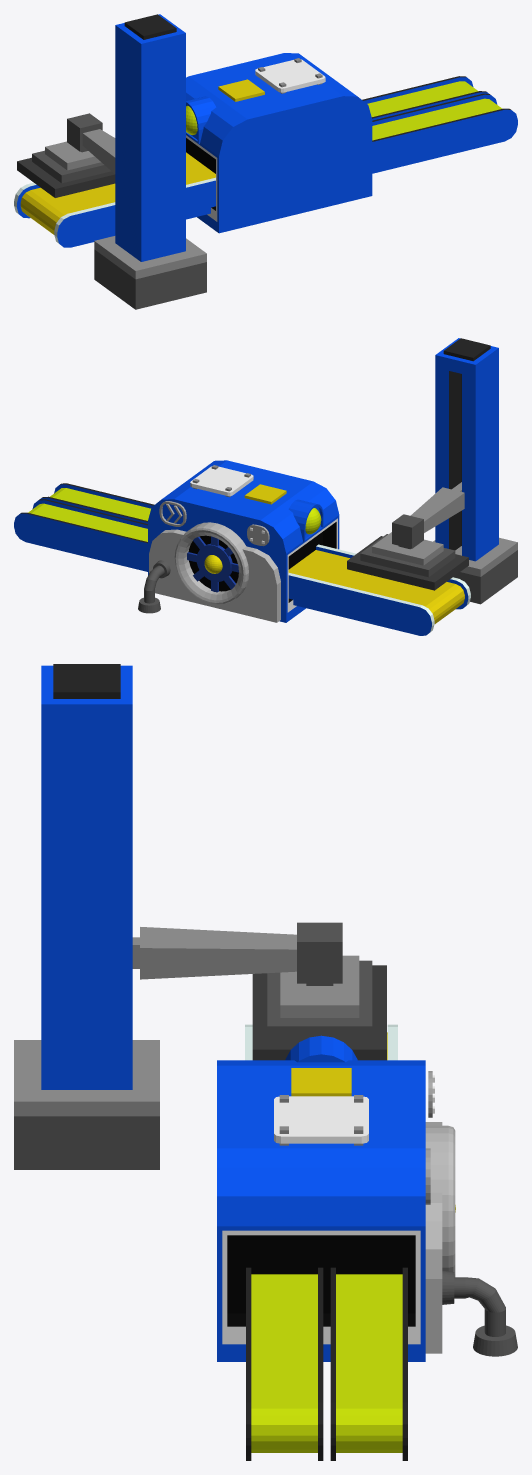
File: NewMachineBody.fbx
The picture shows the model from 3 angles, top to bottom: view 1: azimuth 30°, elevation 25°; view 2: azimuth 150°, elevation 25°; view 3: azimuth 270°, elevation 25°; orthographic projection. The views are drawn at different scales.
Visible parts, largest first — view 1: HeadMachine, Cube, HeadMachineOutorIn.001, HeadMachineOutorIn, line, Cube.002, line.001, Cube.004, line.002, HeadMachineOutorIn.002, Cube.003; view 2: HeadMachine, Cube, HeadMachineOutorIn, HeadMachineOutorIn.002, line, Cube.002, Cube.004, line.002, HeadMachineWheel, line.001, Cube.003, HeadMachineOutorIn.001; view 3: HeadMachine, Cube, Cube.002, line.001, line.002, Cube.004, Cube.003, HeadMachineOutorIn.001, HeadMachineOutorIn.002.
Part boxes in pixels (x1=…): HeadMachine: x1=186, y1=53, x2=372, y2=233; Cube: x1=94, y1=14, x2=206, y2=309; HeadMachineOutorIn.001: x1=372, y1=93, x2=517, y2=173; HeadMachineOutorIn: x1=14, y1=177, x2=215, y2=247; line: x1=20, y1=152, x2=215, y2=234; Cube.002: x1=45, y1=113, x2=115, y2=173; line.001: x1=372, y1=98, x2=502, y2=140; Cube.004: x1=17, y1=157, x2=115, y2=197; line.002: x1=367, y1=81, x2=478, y2=116; HeadMachineOutorIn.002: x1=362, y1=76, x2=488, y2=120; Cube.003: x1=32, y1=150, x2=110, y2=183; HeadMachine: x1=138, y1=460, x2=339, y2=622; Cube: x1=433, y1=338, x2=517, y2=604; HeadMachineOutorIn: x1=288, y1=544, x2=470, y2=635; HeadMachineOutorIn.002: x1=14, y1=499, x2=147, y2=571; line: x1=288, y1=550, x2=464, y2=623; Cube.002: x1=372, y1=482, x2=464, y2=565; Cube.004: x1=347, y1=536, x2=468, y2=590; line.002: x1=28, y1=503, x2=147, y2=541; HeadMachineWheel: x1=187, y1=536, x2=238, y2=592; line.001: x1=50, y1=488, x2=150, y2=520; Cube.003: x1=360, y1=534, x2=455, y2=577; HeadMachineOutorIn.001: x1=40, y1=483, x2=154, y2=523; HeadMachine: x1=217, y1=1035, x2=517, y2=1361; Cube: x1=14, y1=664, x2=159, y2=1169; Cube.002: x1=132, y1=922, x2=359, y2=1017; line.001: x1=251, y1=1274, x2=317, y2=1452; line.002: x1=336, y1=1274, x2=402, y2=1452; Cube.004: x1=252, y1=965, x2=386, y2=1060; Cube.003: x1=267, y1=960, x2=372, y2=1040; HeadMachineOutorIn.001: x1=246, y1=1267, x2=323, y2=1460; HeadMachineOutorIn.002: x1=330, y1=1267, x2=407, y2=1460.
Bounding box in the file's own units: 902 × 483 × 491.
